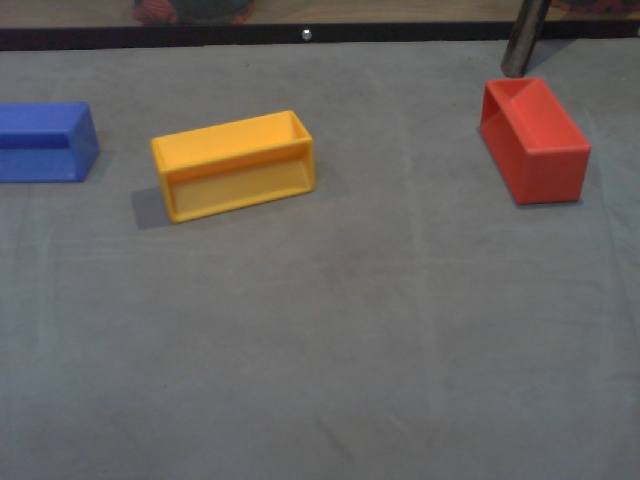BlueSample: (1, 99, 101, 189)
RedSample: (476, 74, 593, 212)
YellowSample: (150, 109, 317, 227)
